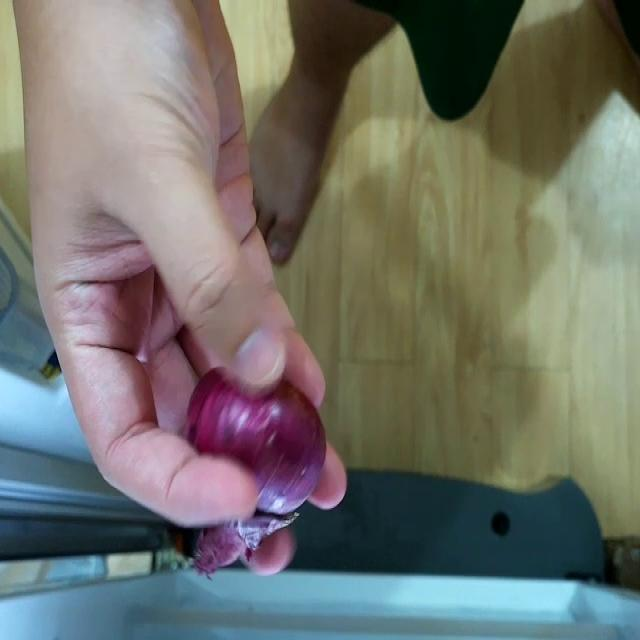onion: (188, 369, 327, 572)
